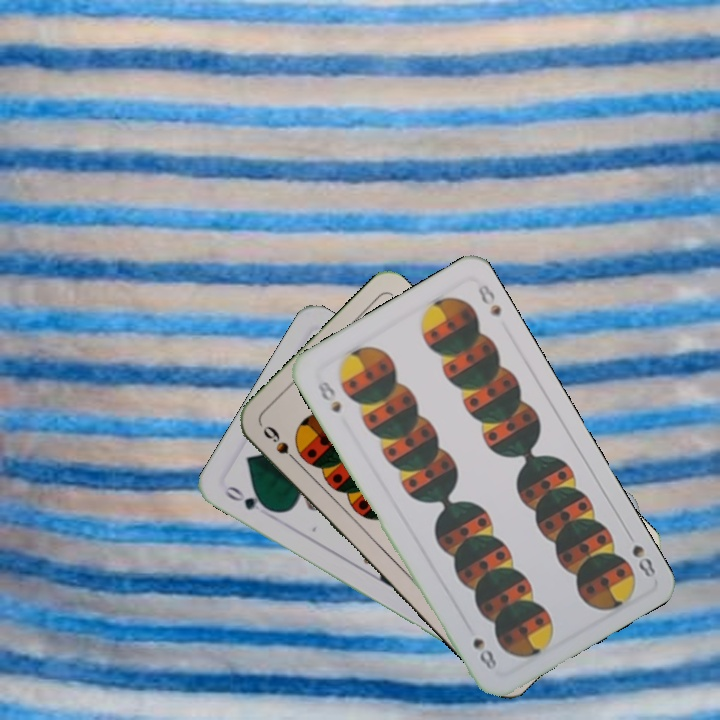GO: (220, 482, 276, 515)
S8: (621, 526, 659, 581), (313, 376, 344, 415)
S9: (258, 421, 304, 469)
